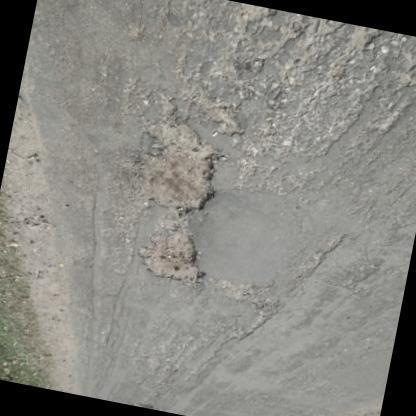pothole: (132, 118, 226, 284)
